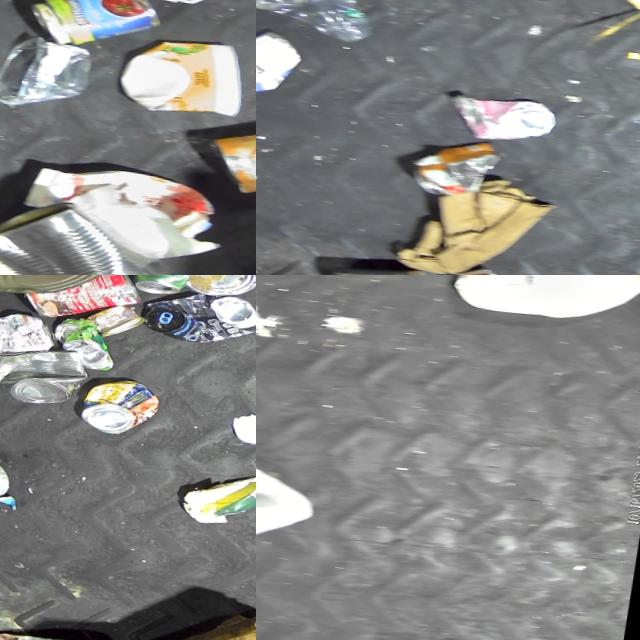can: (0, 192, 184, 275), (25, 0, 169, 54), (142, 286, 256, 349), (445, 90, 564, 146), (410, 134, 509, 201), (21, 275, 148, 326), (0, 340, 94, 408), (80, 376, 166, 438), (206, 119, 256, 201), (51, 316, 122, 371), (0, 307, 60, 364), (0, 275, 109, 301), (86, 301, 147, 341), (329, 258, 445, 275), (187, 275, 256, 300), (128, 275, 196, 298), (0, 629, 84, 640), (0, 454, 14, 502)
milk_jug: (448, 275, 640, 327), (256, 445, 326, 561)
plastic_bottle: (256, 0, 392, 46)
